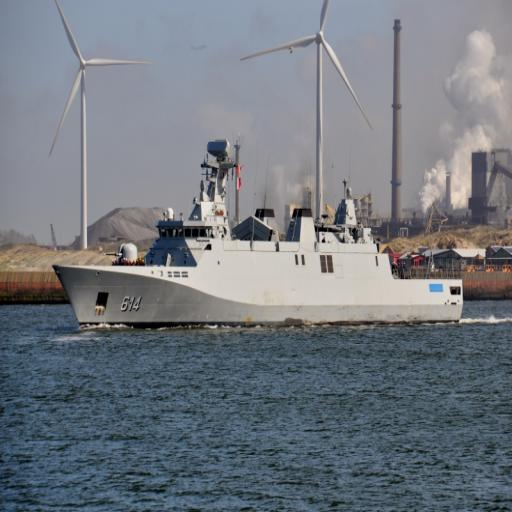Fragata: (51, 138, 467, 333)
